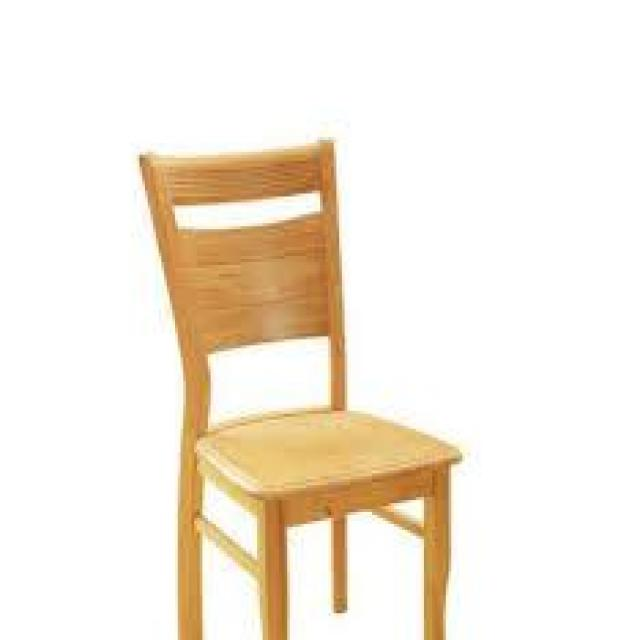chair: (122, 111, 504, 614)
